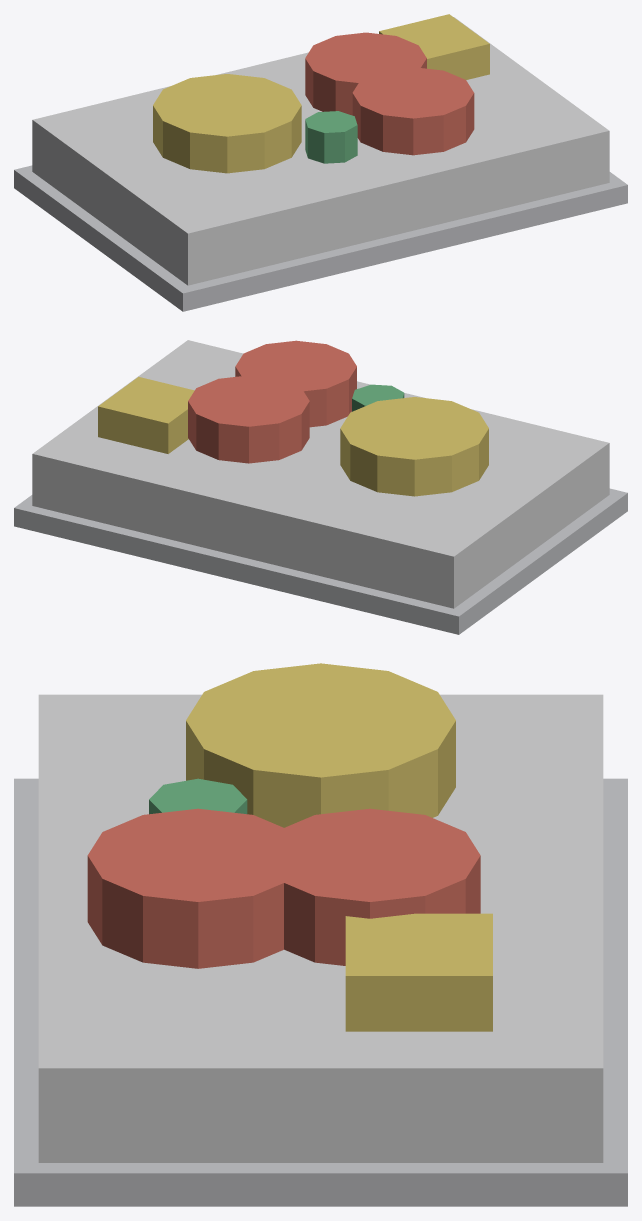
The model's file is eld_porta_frios.glb.
The picture shows the model from 3 angles, top to bottom: view 1: azimuth 30°, elevation 25°; view 2: azimuth 150°, elevation 25°; view 3: azimuth 270°, elevation 25°; orthographic projection. The views are drawn at different scales.
Visible parts, largest first — view 1: ELD_PORTA_FRIOS_v01; view 2: ELD_PORTA_FRIOS_v01; view 3: ELD_PORTA_FRIOS_v01.
Boxes of the visible parts, box(x1,y1,x2,y2) form: ELD_PORTA_FRIOS_v01: box(14, 14, 627, 311); ELD_PORTA_FRIOS_v01: box(14, 340, 627, 634); ELD_PORTA_FRIOS_v01: box(14, 663, 627, 1206).
Size of the model in its own units: 0.38 by 0.0925 by 0.25.
